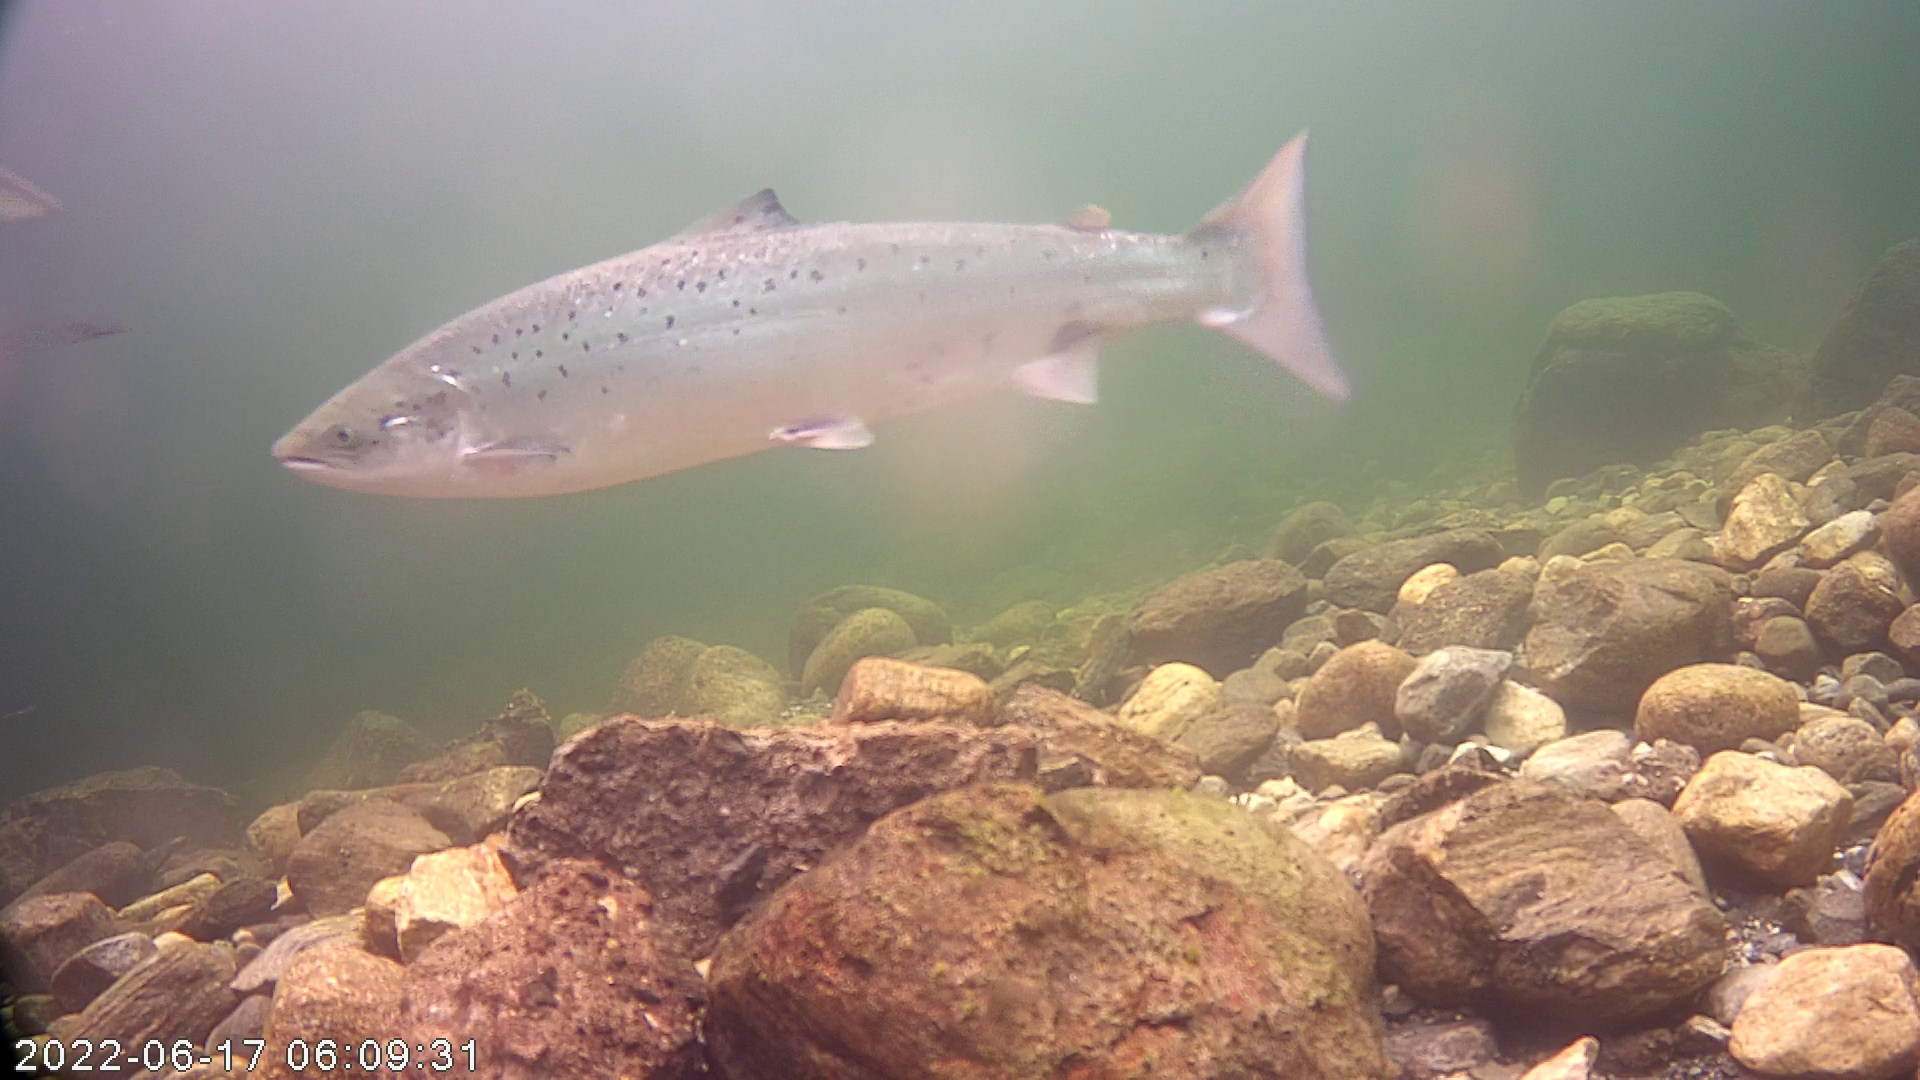salmon: (270, 127, 1358, 506)
